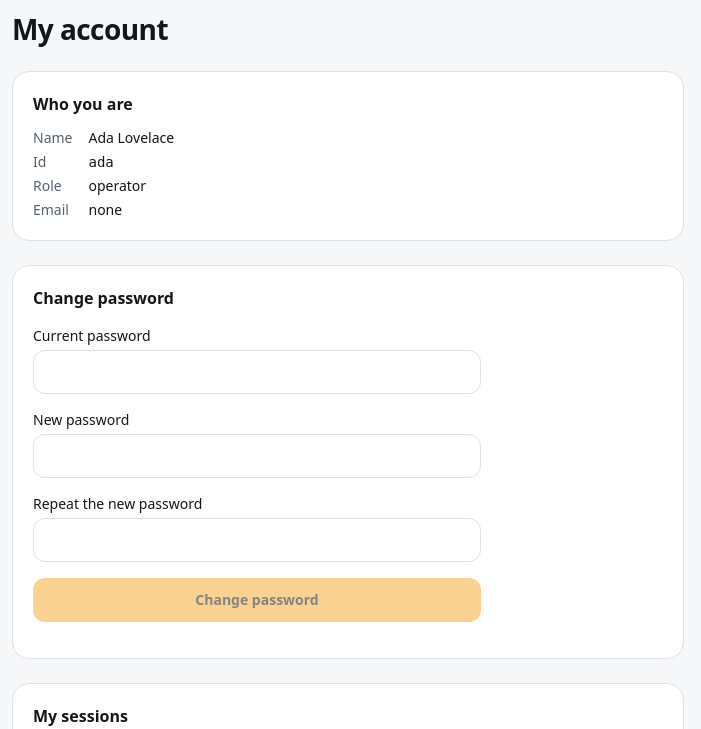
Test case: My account › shows REAUTH under the field and keeps the typed new value
expect the text "Ada Lovelace" is shown: met, box left=88, top=128, right=174, bottom=147
Type "old" into the password field labelled "Current password" at [257, 372], box left=33, top=350, right=481, bottom=394
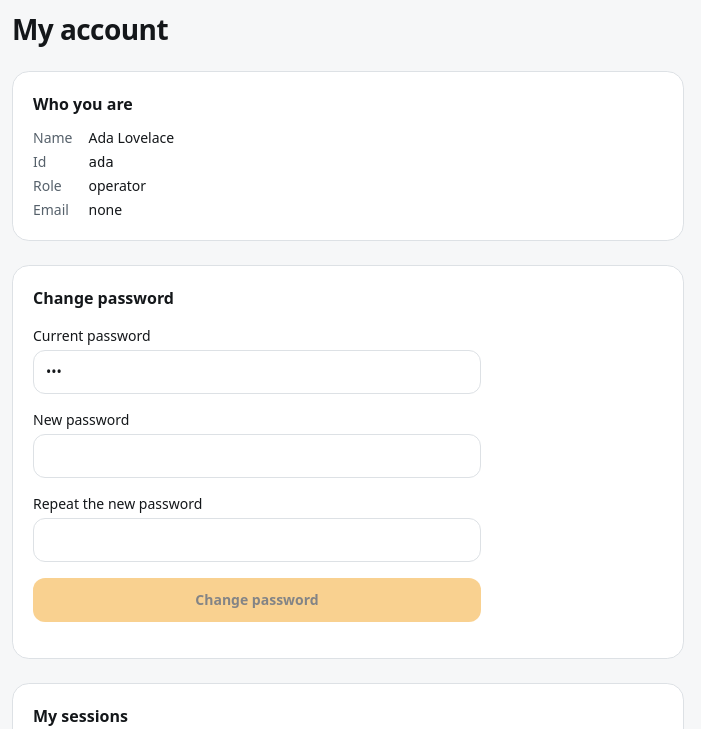
Type "new-secret" into the password field labelled "New password" at [257, 456], box left=33, top=434, right=481, bottom=478
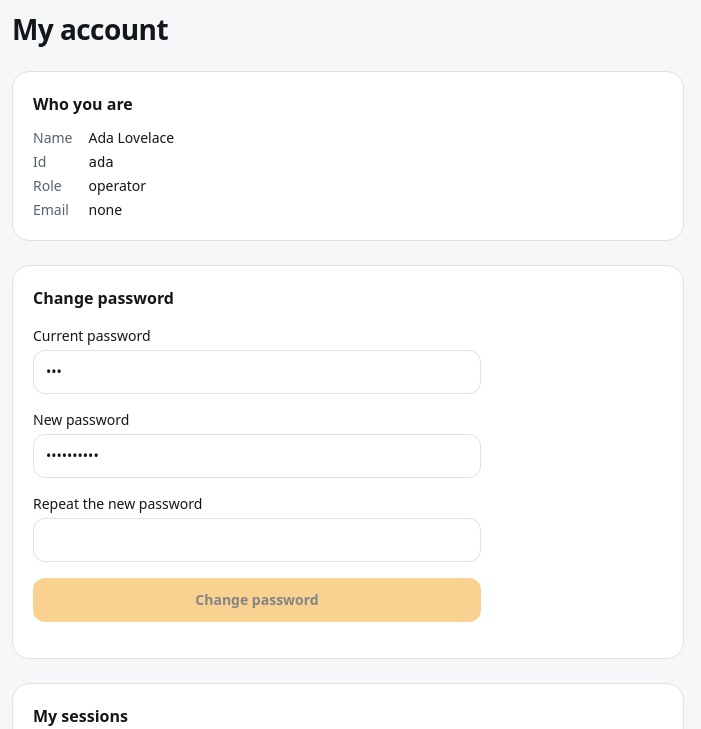
Type "new-secret" into the password field labelled "Repeat the new password" at [257, 540], box left=33, top=518, right=481, bottom=562
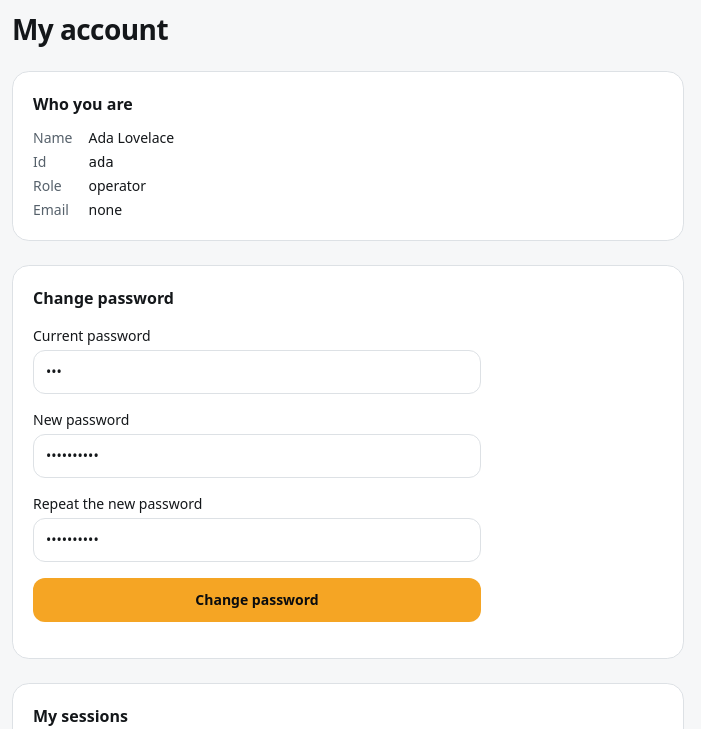
Click the button "Change password" at [257, 600], box left=33, top=578, right=481, bottom=622
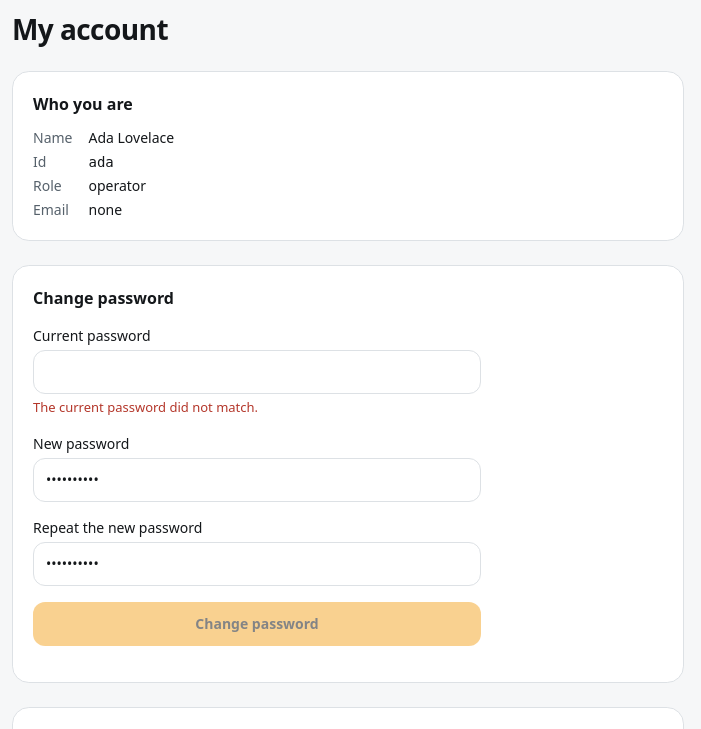
expect the text "The current password did not match." is shown: met, box left=33, top=398, right=258, bottom=416
